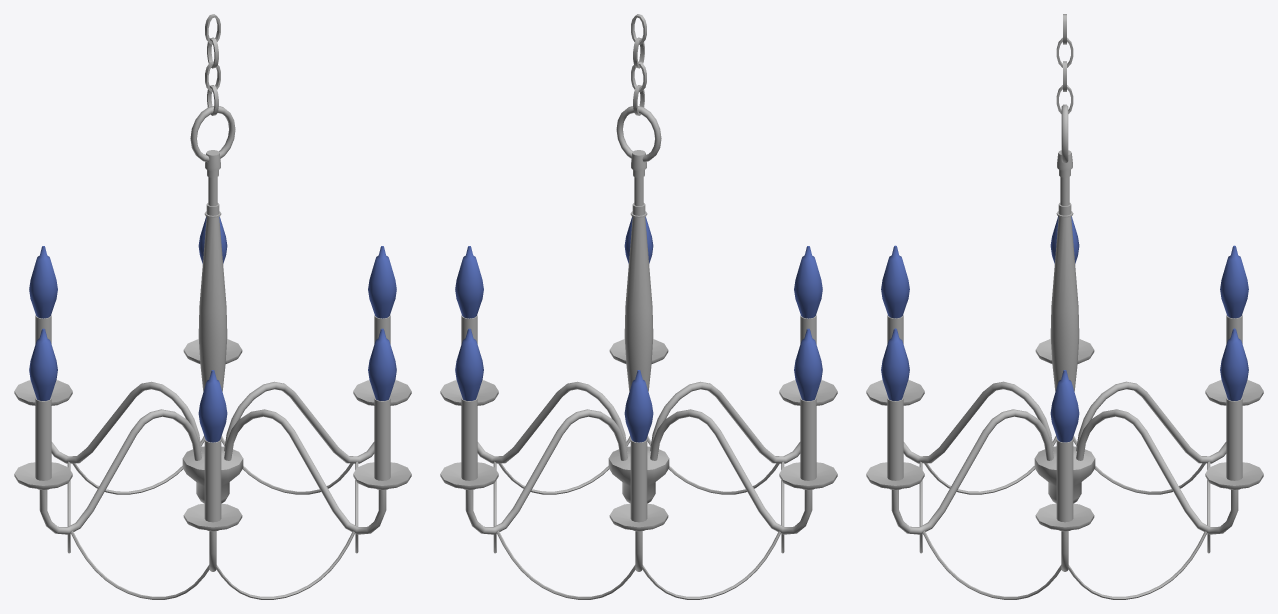
File: chandelier.fbx
3 views of the same model, side by side, from view 1: azimuth 30°, elevation 25°; view 2: azimuth 150°, elevation 25°; view 3: azimuth 270°, elevation 25° (orthographic).
Parts seen in each view (by area): view 1: ChandelierArmA007; view 2: ChandelierArmA007; view 3: ChandelierArmA007.
Part boxes in pixels (box(x1,y1,x2,y2)): ChandelierArmA007: box(14, 14, 411, 599); ChandelierArmA007: box(440, 14, 837, 599); ChandelierArmA007: box(866, 14, 1263, 599).
Bounding box in the file's own units: 41.81 × 54.35 × 36.93.
